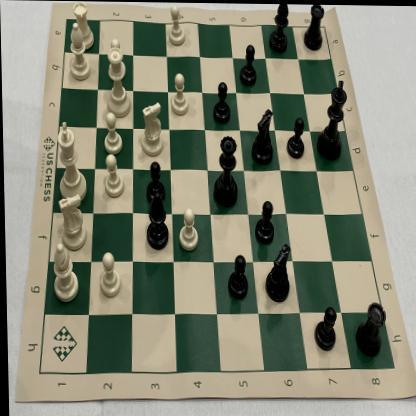black-bishop: (143, 192, 169, 253), (267, 3, 292, 54)
black-king: (314, 78, 350, 162)
black-knight: (263, 239, 294, 304), (248, 106, 274, 165)
black-pawn: (310, 303, 338, 352), (225, 253, 248, 301), (253, 199, 275, 246), (284, 116, 306, 160), (238, 43, 259, 87), (144, 160, 165, 203), (211, 79, 231, 124)
black-queen: (211, 134, 240, 210)
black-rook: (352, 299, 387, 358), (303, 4, 327, 52)
white-bishop: (63, 23, 93, 81), (50, 243, 79, 303)
white-king: (55, 120, 87, 202)
white-knight: (55, 192, 88, 251), (139, 100, 166, 157)
white-pawn: (95, 250, 122, 299), (100, 154, 124, 199), (176, 206, 198, 252), (101, 111, 123, 156), (169, 72, 190, 119), (166, 2, 187, 48), (106, 37, 127, 82)
white-queen: (106, 47, 132, 119)
white-rook: (69, 1, 97, 52)
